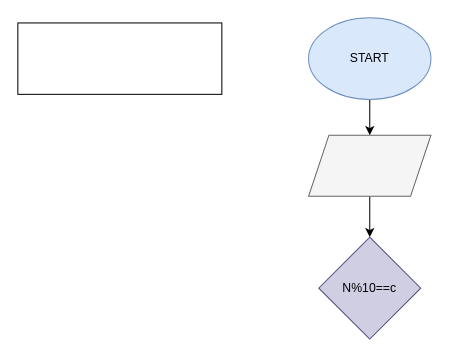
Image size: 449x357. Some labels were removed from this diagram. Here are the shapes that lost their labels. From the top down, the centre of each, then its label:
the point at 119,58: Verilmiş N ədədinin son rəqəmini tapan alqoritm. ədəd: 547
the point at 369,165: abc N=abc
